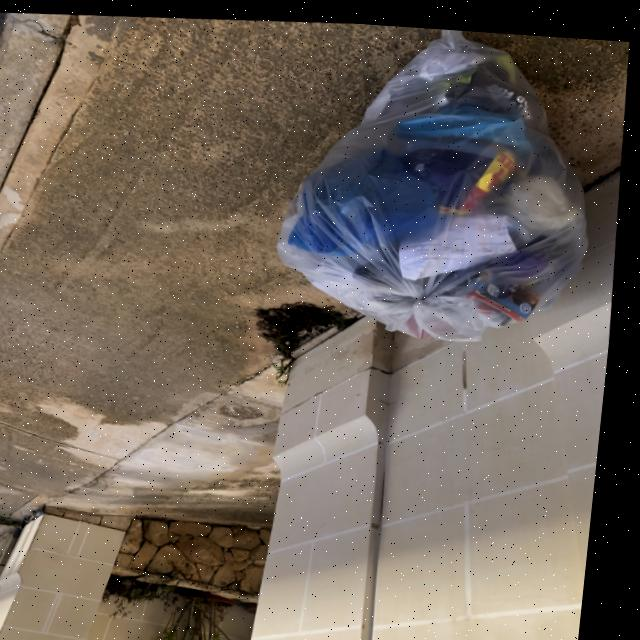Recycled Waste -Grey or Green Bag-: (266, 16, 614, 348)
